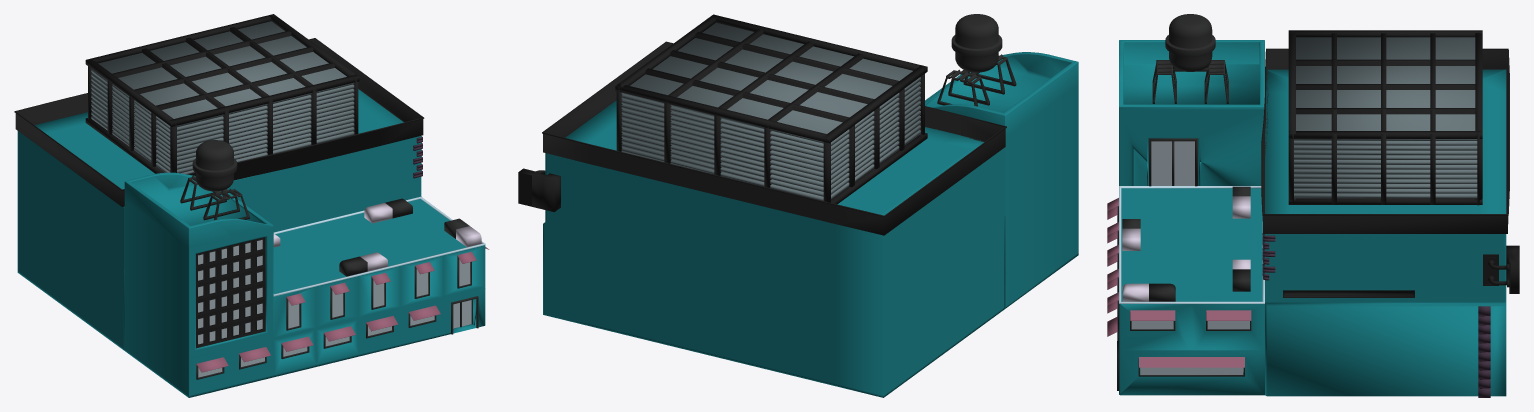
File: crypto_office.glb
3 renders of one model, left to right at view 1: azimuth 30°, elevation 25°; view 2: azimuth 150°, elevation 25°; view 3: azimuth 270°, elevation 25°, orthographic. The views are drawn at different scales.
Parts seen in each view (by area): view 1: BASE_0, DETAIL.004_5, DETAIL_1, DETAIL.001_2, WINDOWS&SHADER_7, DETAIL.005_6, DETAIL.002_3, DETAIL.003_4; view 2: BASE_0, DETAIL.004_5, DETAIL.001_2, DETAIL_1, DETAIL.003_4, DETAIL.002_3; view 3: BASE_0, DETAIL.004_5, DETAIL_1, DETAIL.001_2, WINDOWS&SHADER_7, DETAIL.005_6, DETAIL.003_4, DETAIL.002_3.
Boxes of the visible parts, box(x1,y1,x2,y2) form: BASE_0: box(17, 89, 485, 397); DETAIL.004_5: box(85, 14, 359, 173); DETAIL_1: box(192, 136, 485, 379); DETAIL.001_2: box(14, 38, 424, 206); WINDOWS&SHADER_7: box(196, 240, 489, 377); DETAIL.005_6: box(273, 198, 481, 276); DETAIL.002_3: box(203, 188, 249, 220); DETAIL.003_4: box(180, 175, 228, 210); BASE_0: box(543, 52, 1078, 397); DETAIL.004_5: box(615, 14, 927, 204); DETAIL.001_2: box(542, 41, 1006, 235); DETAIL_1: box(518, 14, 1002, 212); DETAIL.003_4: box(937, 69, 989, 106); DETAIL.002_3: box(963, 54, 1016, 94); BASE_0: box(1119, 40, 1506, 396); DETAIL.004_5: box(1288, 30, 1482, 205); DETAIL_1: box(1117, 14, 1519, 397); DETAIL.001_2: box(1261, 48, 1509, 233); WINDOWS&SHADER_7: box(1107, 141, 1251, 374); DETAIL.005_6: box(1122, 186, 1250, 301); DETAIL.003_4: box(1173, 60, 1228, 103); DETAIL.002_3: box(1152, 60, 1176, 103).
Bounding box in the file's own units: 24.26 × 15.79 × 24.18.
